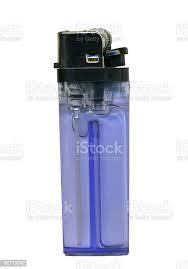lighter: (54, 28, 131, 256)
